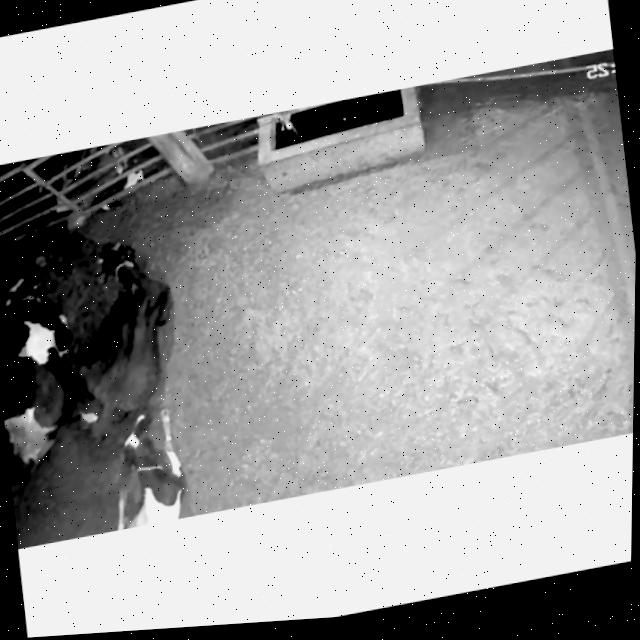lay: (49, 219, 200, 449), (0, 229, 82, 484), (73, 396, 203, 536)
